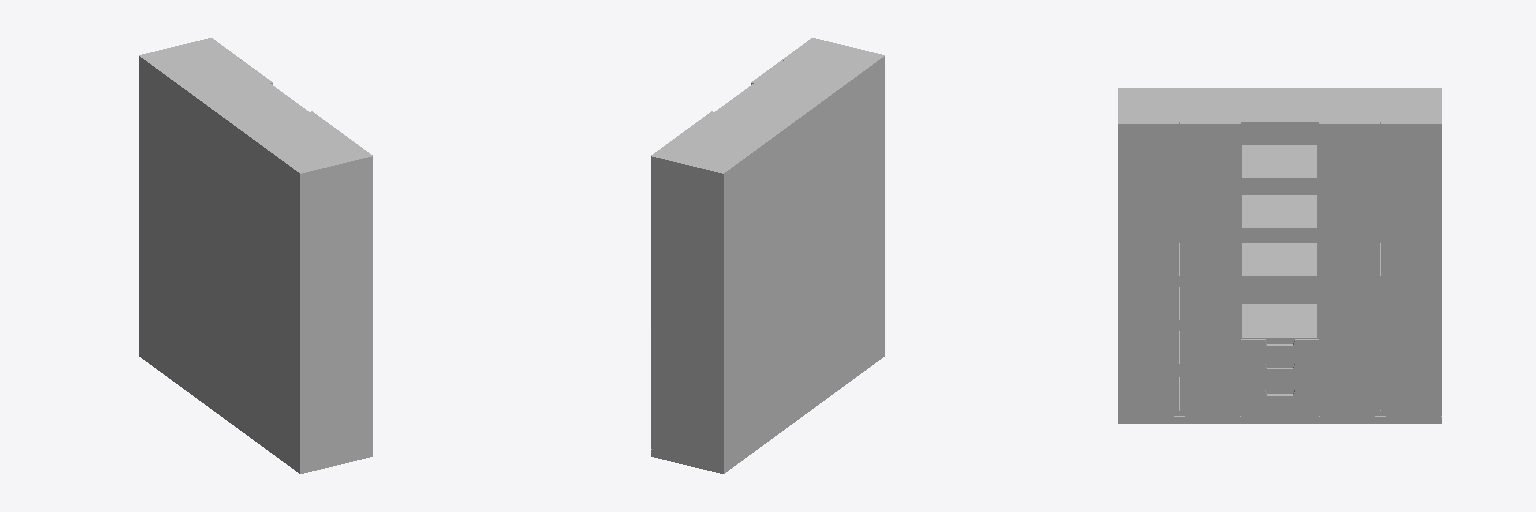
The model's file is Furniture.obj.
3 renders of one model, left to right at view 1: azimuth 30°, elevation 25°; view 2: azimuth 150°, elevation 25°; view 3: azimuth 270°, elevation 25°, orthographic.
Parts seen in each view (by area): view 1: Cube, Cube.033, Cube.001; view 2: Cube, Cube.033, Cube.012; view 3: Cube.001, Cube.003, Cube.012, Cube.011, Cube, Cube.024, Cube.008, Cube.005, Cube.009, Cube.010, Cube.033, Cube.013 (+7 smaller).
Boxes of the visible parts, x1,y1,x2,y2 form: Cube: [139, 38, 370, 466]; Cube.033: [139, 349, 372, 473]; Cube.001: [340, 134, 372, 449]; Cube: [653, 38, 884, 466]; Cube.033: [651, 349, 884, 473]; Cube.012: [651, 134, 683, 449]; Cube.001: [1118, 122, 1178, 416]; Cube.003: [1180, 122, 1240, 416]; Cube.012: [1381, 122, 1441, 416]; Cube.011: [1319, 122, 1379, 416]; Cube: [1118, 88, 1441, 415]; Cube.024: [1242, 128, 1316, 303]; Cube.008: [1242, 243, 1316, 278]; Cube.005: [1241, 304, 1318, 338]; Cube.009: [1242, 195, 1316, 229]; Cube.010: [1242, 145, 1316, 179]; Cube.033: [1118, 416, 1441, 423]; Cube.013: [1241, 390, 1318, 416].
Size of the model in its own units: 1.25 by 4.92 by 4.8.